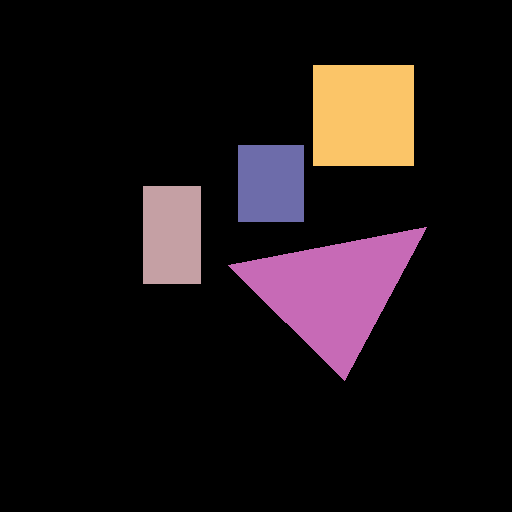rectangle: (143, 186, 200, 283), (238, 145, 303, 221)
square: (313, 65, 413, 165)
triangle: (228, 227, 426, 380)
